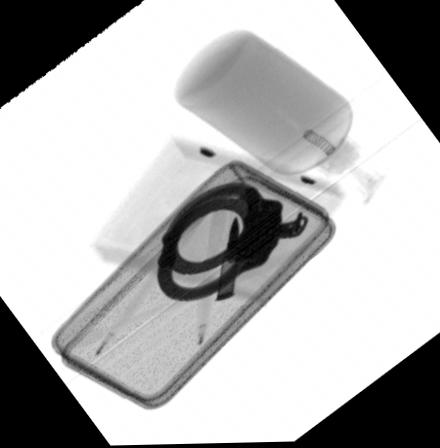Bullet: (217, 216, 241, 302)
HandCuffs: (154, 181, 308, 303)
